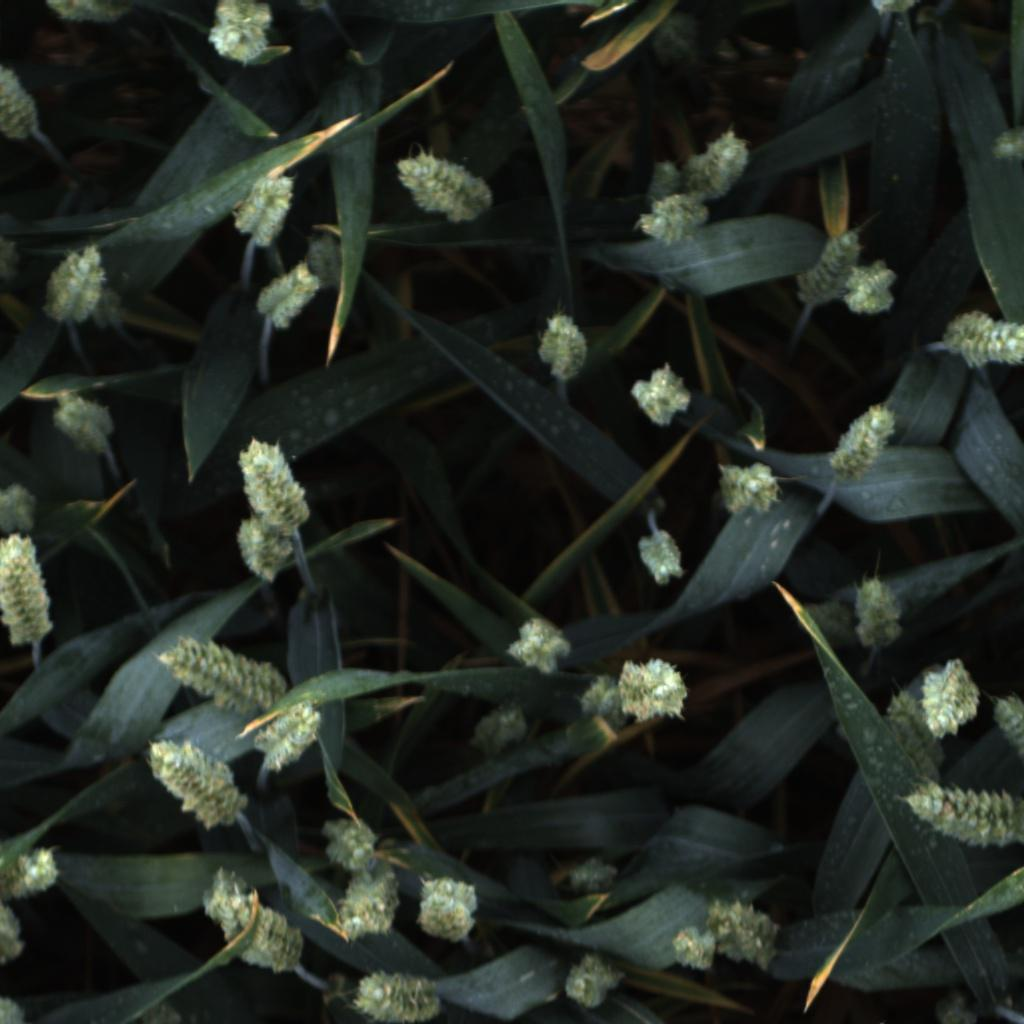0-0: (156, 627, 291, 718), (144, 731, 253, 834), (388, 146, 494, 229), (903, 783, 1024, 855), (217, 893, 309, 977), (237, 438, 316, 534), (878, 681, 947, 785), (700, 893, 782, 975), (0, 534, 54, 652), (910, 659, 986, 742), (329, 862, 402, 947), (821, 407, 903, 480), (793, 227, 866, 309), (41, 243, 111, 327), (346, 965, 444, 1024), (252, 694, 323, 774), (230, 172, 300, 250), (198, 1, 280, 65), (684, 129, 753, 205), (497, 611, 575, 677), (946, 310, 1024, 374), (412, 872, 480, 945), (626, 359, 694, 430), (255, 261, 320, 334), (634, 188, 708, 252), (232, 517, 298, 586), (51, 390, 116, 460), (625, 657, 689, 727), (467, 696, 536, 760), (852, 573, 905, 654), (534, 308, 591, 381), (0, 40, 41, 141), (715, 460, 783, 518), (3, 839, 67, 900), (318, 815, 384, 874), (562, 838, 626, 898), (561, 949, 620, 1013), (634, 527, 690, 592), (796, 594, 863, 647), (841, 257, 899, 318), (297, 231, 354, 292), (197, 865, 251, 928), (663, 924, 725, 973), (991, 689, 1024, 781), (576, 666, 627, 723), (43, 0, 140, 29), (640, 152, 689, 208), (81, 284, 131, 334), (0, 480, 38, 539), (0, 901, 28, 969), (933, 988, 981, 1024), (126, 997, 189, 1024), (990, 119, 1024, 169), (1, 236, 27, 288), (0, 991, 31, 1024), (869, 0, 919, 17), (298, 0, 334, 14)
